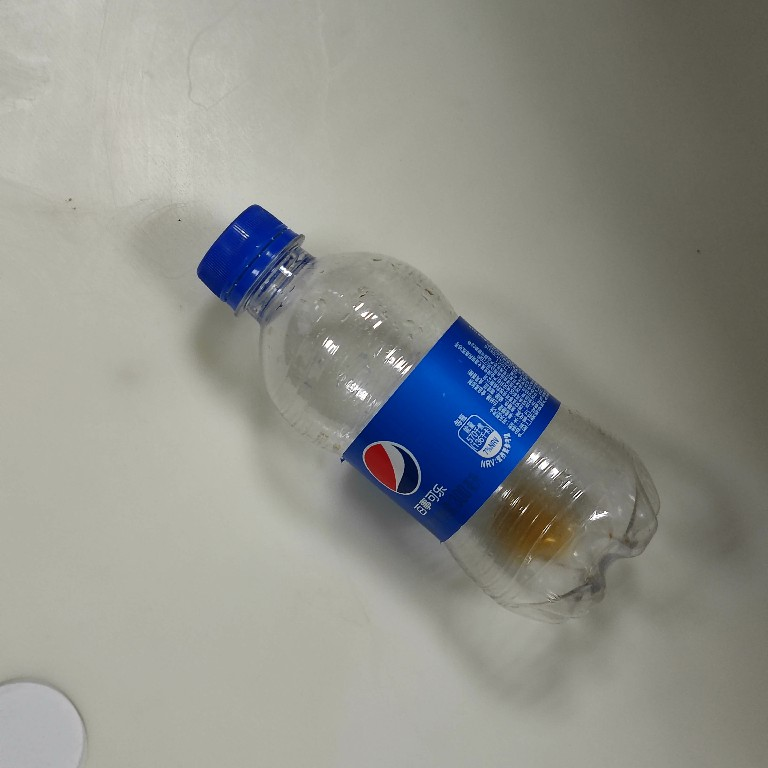bottle: (189, 196, 664, 631)
